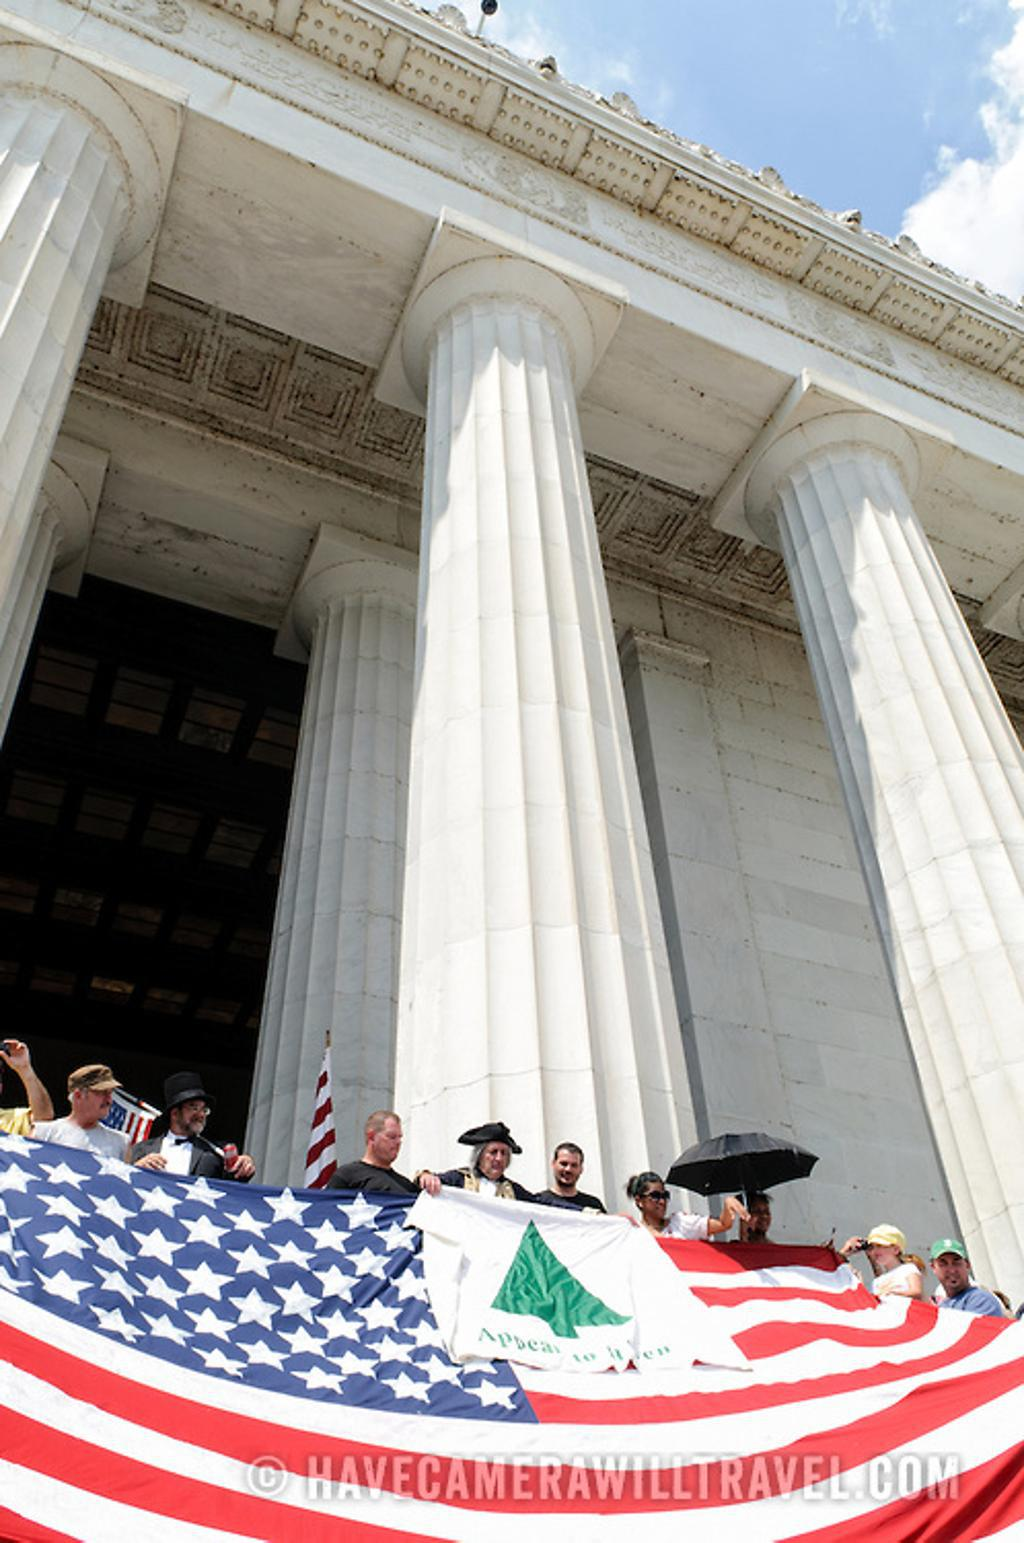face: (935, 1252, 966, 1288), (182, 1097, 211, 1135), (86, 1082, 115, 1118), (643, 1188, 670, 1218), (872, 1239, 900, 1266), (483, 1145, 508, 1177), (987, 1301, 1013, 1330), (747, 1205, 772, 1233), (378, 1129, 403, 1158), (557, 1156, 582, 1183), (899, 1267, 924, 1295)
